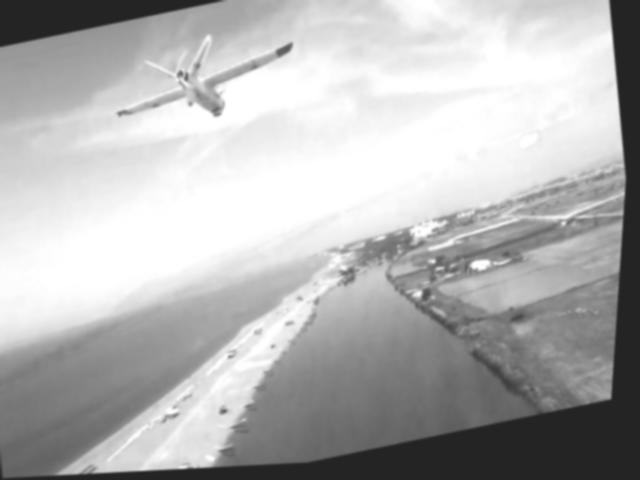hedef: (96, 7, 310, 158)
